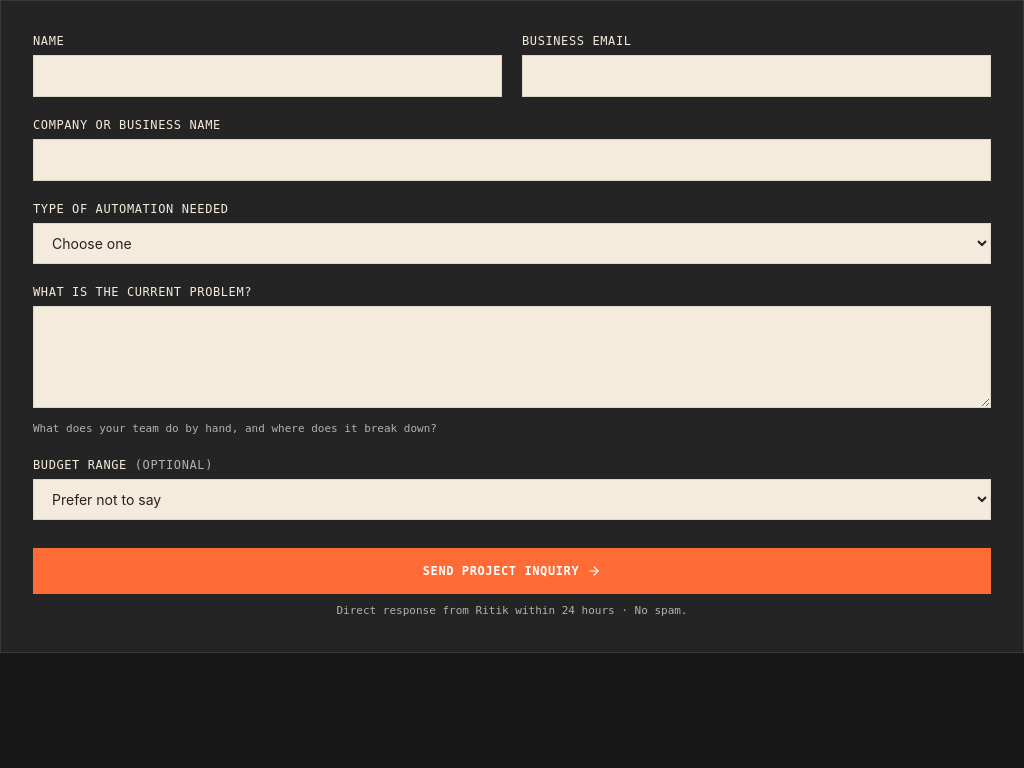
Test: ContactForm › shows field errors, marks fields invalid and moves focus to the first one
The width and height of the screenshot is (1024, 768).
Click the button "Send project inquiry" at (512, 571), box [33,548,991,594]
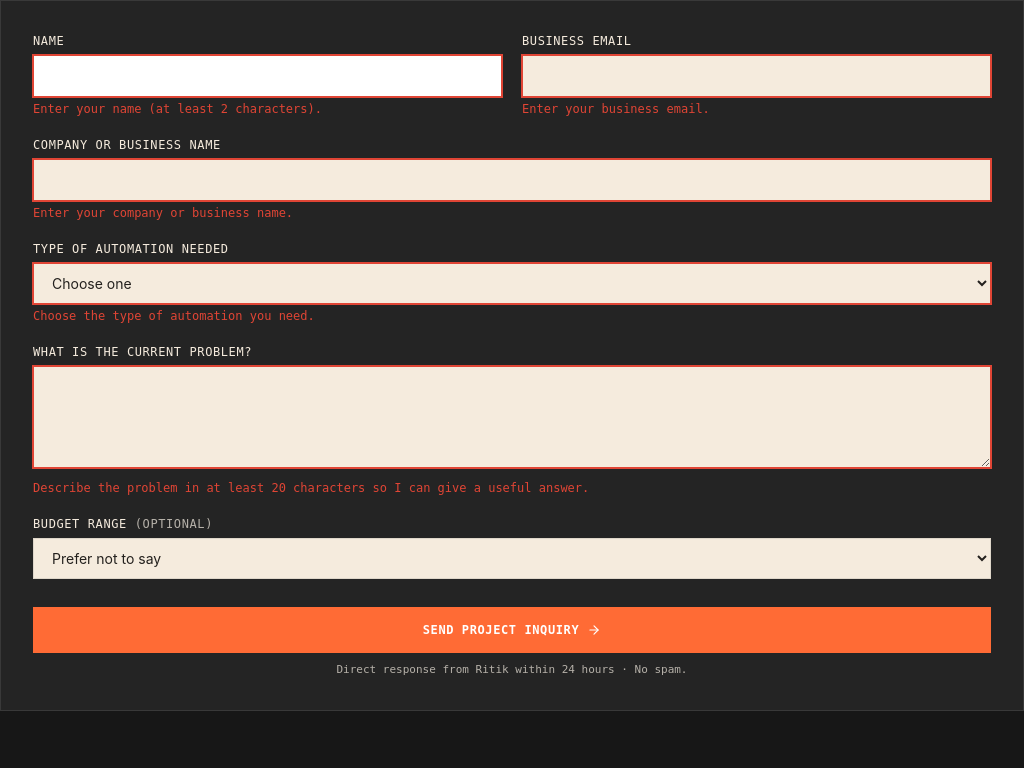
Now the text "Enter your business email." is shown, box [522,102,710,116]
Now the text "Choose the type of automation you need." is shown, box [33,309,315,323]
